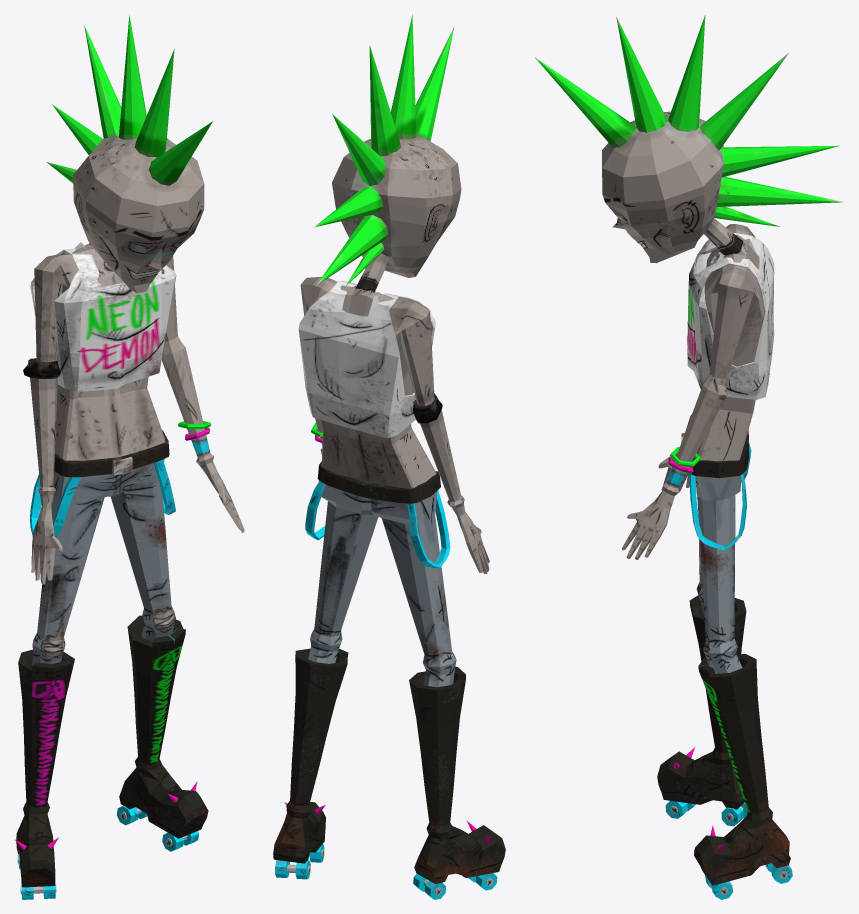
Rendered from punkAnimation_000164.obj.
The picture shows the model from 3 angles, left to right: view 1: azimuth 30°, elevation 25°; view 2: azimuth 150°, elevation 25°; view 3: azimuth 270°, elevation 25°; orthographic projection. The views are drawn at different scales.
Parts seen in each view (by area): view 1: Cube.004_Cube.003; view 2: Cube.004_Cube.003; view 3: Cube.004_Cube.003.
Boxes of the visible parts, x1,y1,x2,y2 form: Cube.004_Cube.003: (15,14,244,899); Cube.004_Cube.003: (273,14,505,899); Cube.004_Cube.003: (535,15,843,899).
Size of the model in its own units: 1.88 by 7.49 by 2.48.
